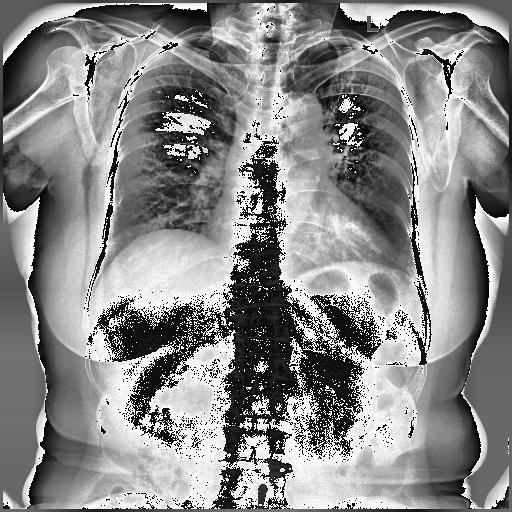0- Aortic enlargement: (268, 92, 322, 156), (274, 91, 323, 138), (280, 92, 322, 133)
13- Pulmonary fibrosis: (156, 90, 162, 94)
3- Cardiomegaly: (208, 193, 388, 268), (212, 206, 394, 266)
8- Nodule-Mass: (156, 90, 162, 94)
